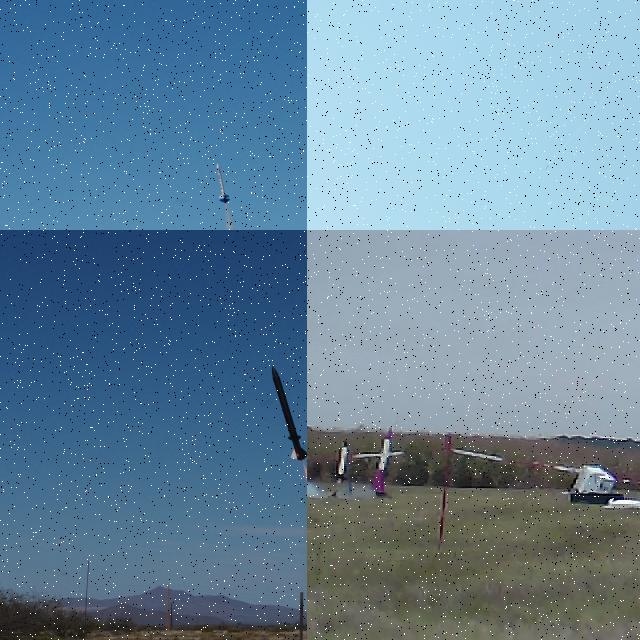Rocket: (270, 365, 307, 461), (368, 426, 392, 492), (336, 440, 351, 479), (216, 163, 230, 204), (545, 165, 549, 171)
